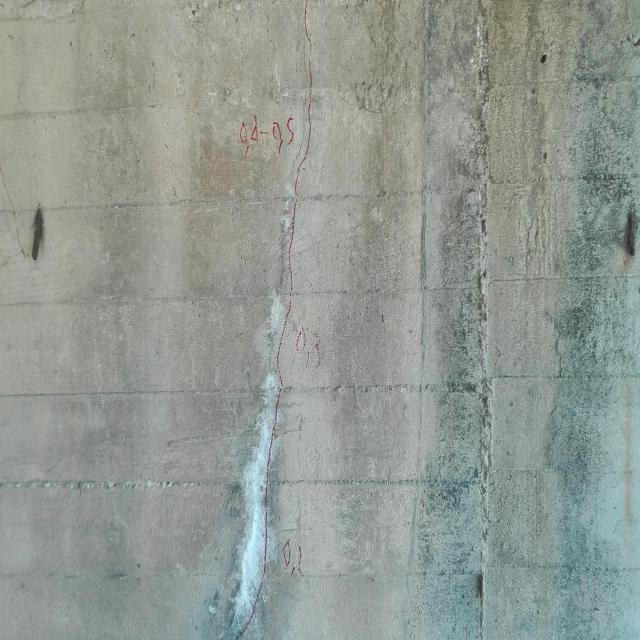Rebar: (627, 210, 636, 257)
vertical crack: (220, 1, 306, 640), (543, 306, 563, 465)
